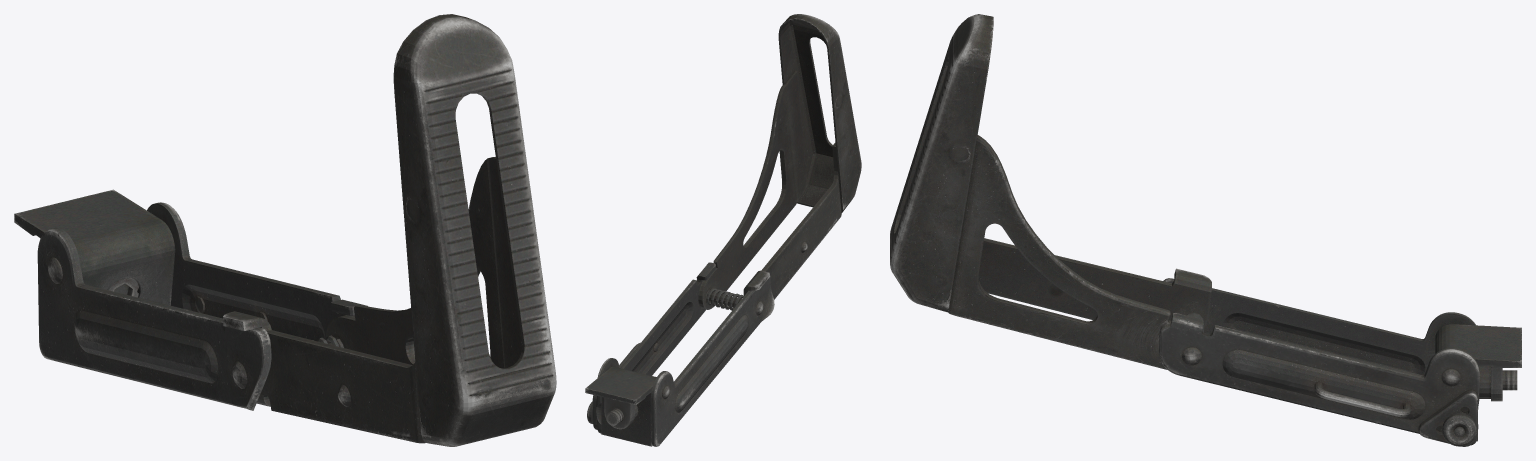
The picture shows the model from 3 angles, left to right: view 1: azimuth 30°, elevation 25°; view 2: azimuth 150°, elevation 25°; view 3: azimuth 270°, elevation 25°; orthographic projection. The views are drawn at different scales.
Parts seen in each view (by area): view 1: TW_6699249f3c4fda6471005cba_PZ_Import; view 2: TW_6699249f3c4fda6471005cba_PZ_Import; view 3: TW_6699249f3c4fda6471005cba_PZ_Import.
Part boxes in pixels (x1=…): TW_6699249f3c4fda6471005cba_PZ_Import: x1=14, y1=14, x2=556, y2=446; TW_6699249f3c4fda6471005cba_PZ_Import: x1=585, y1=14, x2=861, y2=446; TW_6699249f3c4fda6471005cba_PZ_Import: x1=890, y1=14, x2=1521, y2=446.
Bounding box in the file's own units: 0.0274 × 0.1343 × 0.0958.
Materials: 1 (1 with a texture image).
